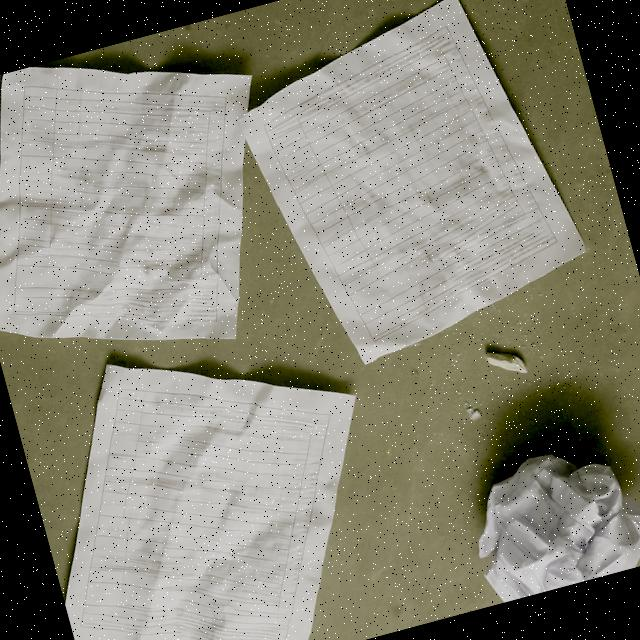paper: (217, 0, 615, 380), (7, 301, 422, 640), (0, 15, 314, 396), (454, 426, 640, 605)
